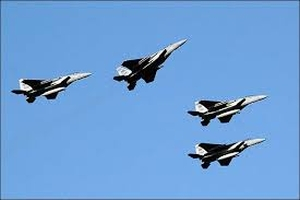flight: (112, 37, 189, 92), (10, 71, 94, 104), (187, 94, 269, 127), (187, 137, 267, 170)
